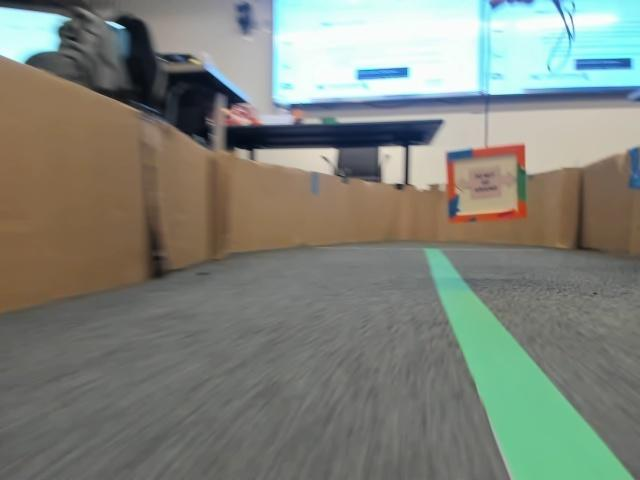Do Not Go Around: (455, 169, 513, 199)
